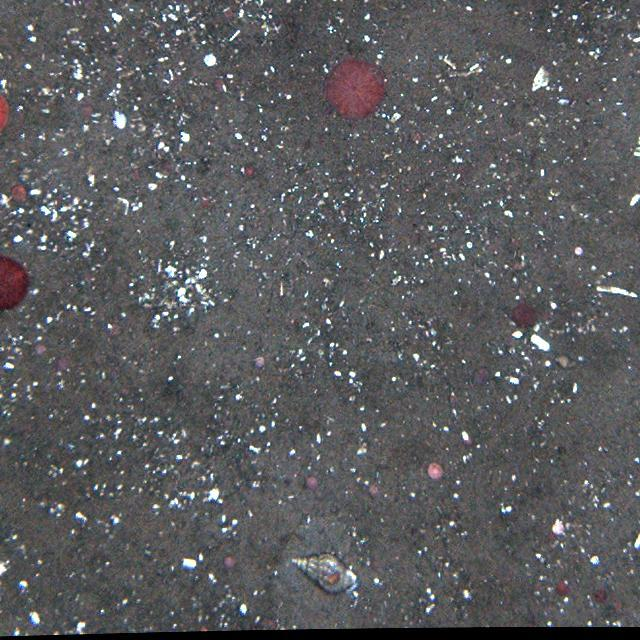whelk: (292, 552, 358, 595)
